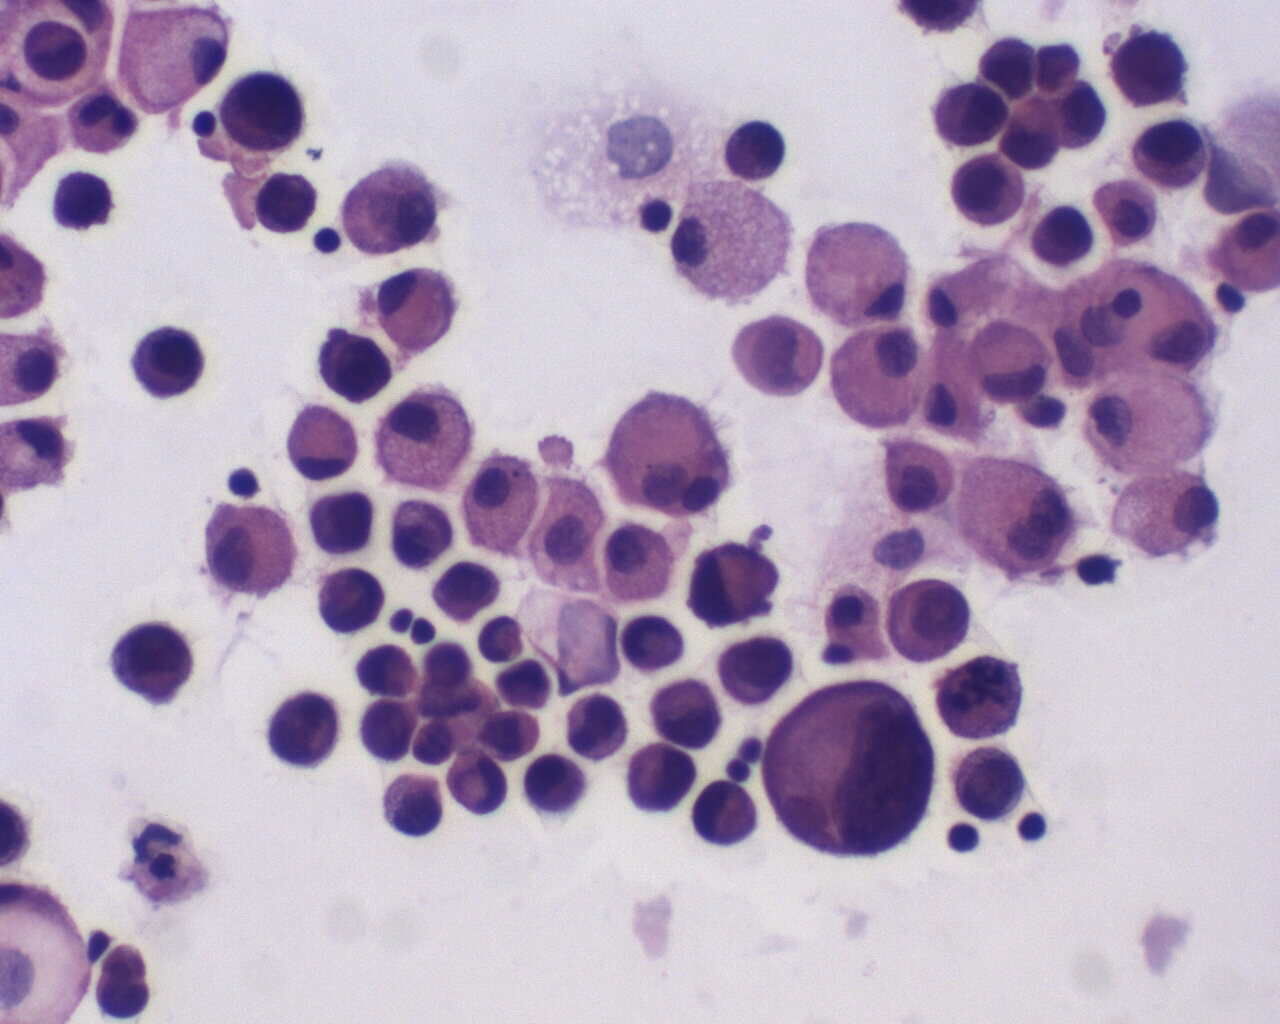ab: (757, 672, 959, 862), (688, 528, 785, 634), (932, 647, 1037, 745), (104, 611, 199, 711), (1106, 22, 1202, 117), (212, 69, 317, 154), (315, 320, 405, 408), (885, 575, 971, 668), (948, 740, 1035, 827), (260, 681, 344, 772), (129, 322, 208, 408), (715, 634, 801, 712), (1128, 117, 1213, 195), (928, 77, 1013, 156), (560, 685, 637, 766), (949, 152, 1025, 231), (623, 739, 699, 818), (388, 492, 460, 573), (46, 166, 127, 237), (430, 556, 505, 631), (317, 561, 390, 637), (305, 485, 377, 561), (1024, 201, 1101, 271), (718, 117, 796, 186), (247, 169, 321, 240), (380, 770, 446, 842)
histo: (604, 380, 734, 520), (665, 177, 798, 307), (1085, 365, 1223, 479), (116, 1, 233, 112), (802, 218, 918, 327), (1107, 459, 1221, 567), (825, 318, 928, 432), (376, 263, 459, 352), (280, 400, 366, 485)
lymph: (944, 815, 987, 862), (307, 223, 350, 261), (1016, 807, 1053, 847)
meso: (461, 445, 542, 558), (602, 514, 682, 608)
